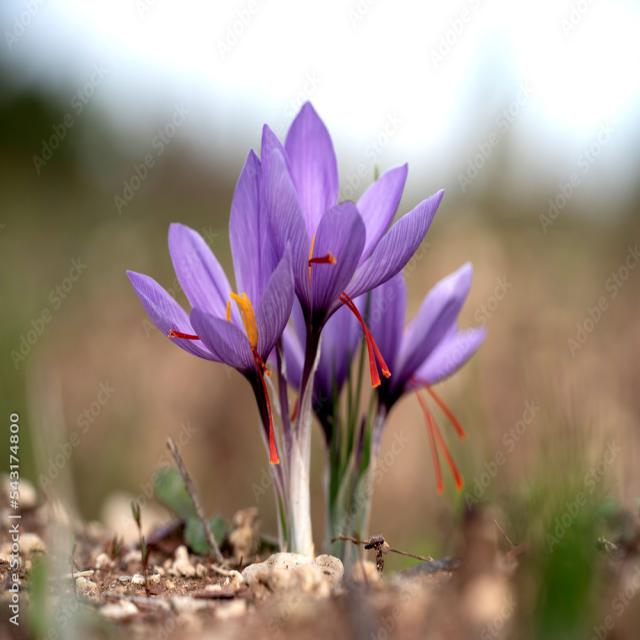saffron open: (261, 101, 442, 555), (128, 150, 294, 446), (369, 262, 484, 429)
